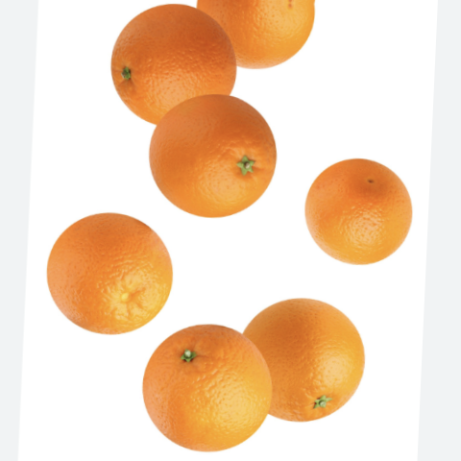orange: (34, 191, 183, 340), (88, 0, 251, 136), (132, 316, 282, 461), (228, 293, 376, 430), (143, 86, 288, 223), (302, 151, 418, 276), (191, 0, 323, 85)
